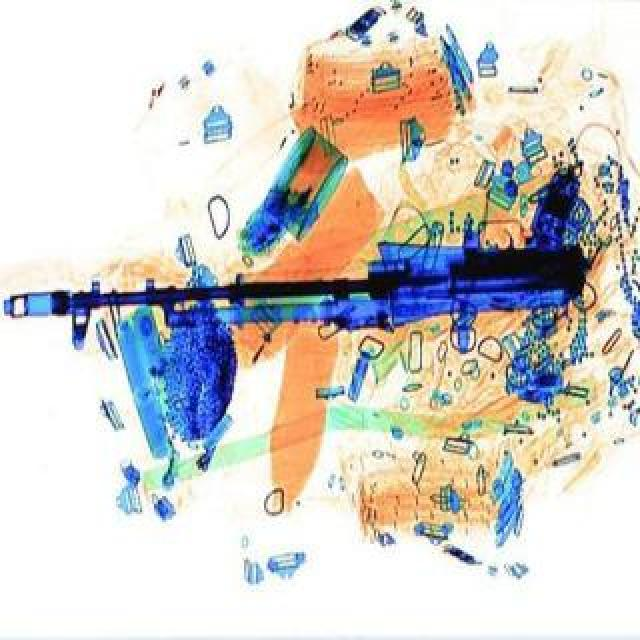gun: (0, 162, 588, 354)
